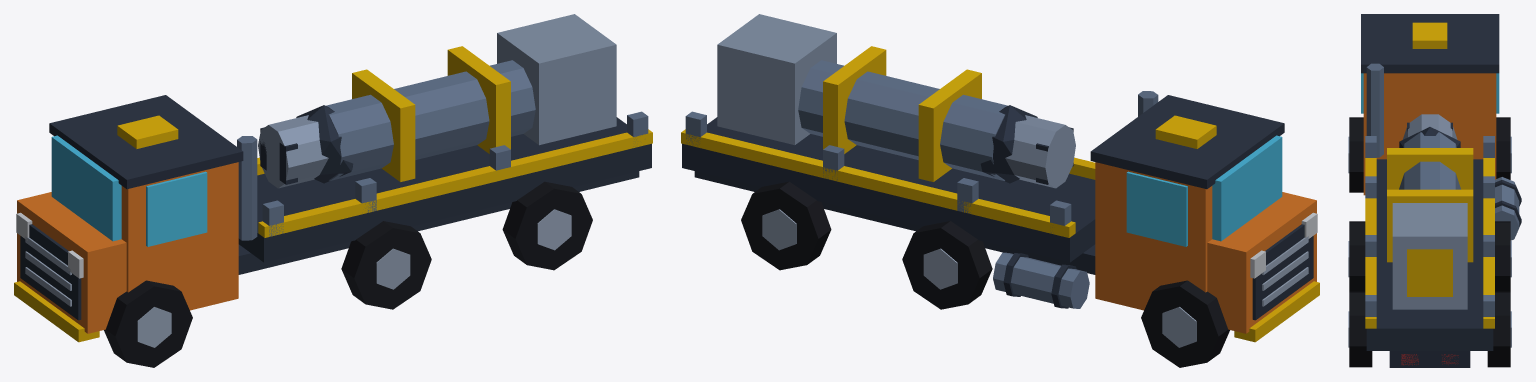
File: Decor_MechaHangar_Transport.fbx
The picture shows the model from 3 angles, left to right: view 1: azimuth 30°, elevation 25°; view 2: azimuth 150°, elevation 25°; view 3: azimuth 270°, elevation 25°; orthographic projection. The views are drawn at different scales.
Visible parts, largest first — view 1: Transport_Body; view 2: Transport_Body; view 3: Transport_Body.
Boxes of the visible parts, box(x1,y1,x2,y2) form: Transport_Body: box(14, 14, 652, 367); Transport_Body: box(681, 14, 1319, 367); Transport_Body: box(1348, 14, 1521, 367).
Size of the model in its own units: 19 by 6.3 by 5.6.
